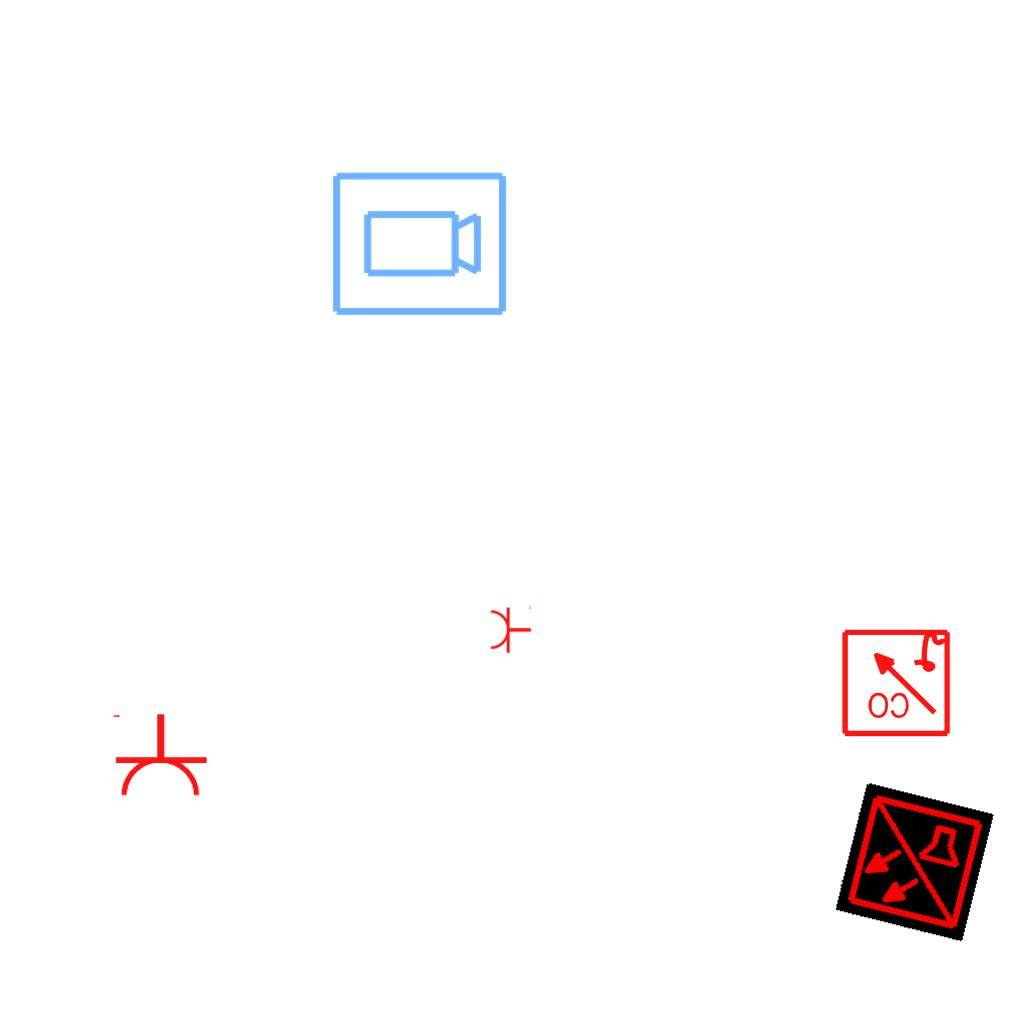KFO_Kamera_mit_Festobjektiv: (328, 168, 510, 322)
OKW_Multisensormelder_(Kombination_optischer_Rauch-Kahlenmonoxid_Waerme-Melder): (833, 781, 995, 943)
ROA_Rauchmelder_optisch_mit_Signalgeber_(Sockelsirene): (839, 625, 952, 738)
Schukosteckdose_einfach: (109, 712, 209, 799), (489, 604, 532, 654)
